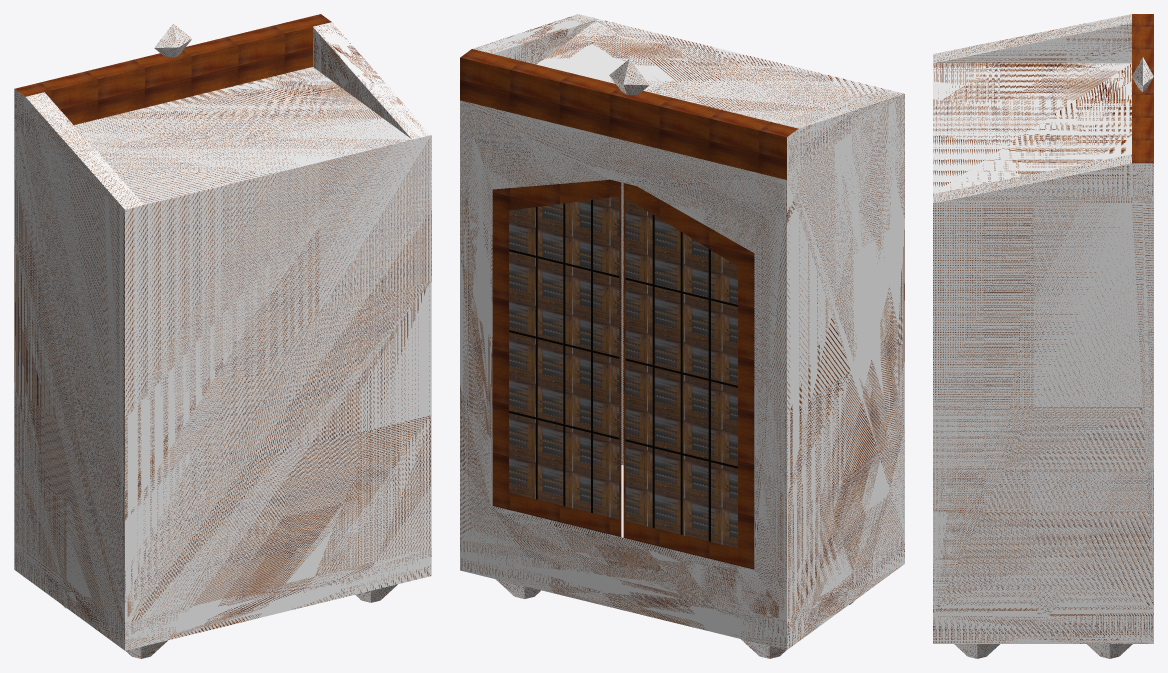
3 renders of one model, left to right at view 1: azimuth 30°, elevation 25°; view 2: azimuth 150°, elevation 25°; view 3: azimuth 270°, elevation 25°, orthographic. The views are drawn at different scales.
Visible parts, largest first — view 1: mesh3_mesh3-geometry, mesh1_mesh1-geometry; view 2: mesh3_mesh3-geometry, mesh1_mesh1-geometry; view 3: mesh3_mesh3-geometry, mesh4_mesh4-geometry, mesh5_mesh5-geometry, mesh1_mesh1-geometry.
Boxes of the visible parts, left/top/right/bottom form: mesh3_mesh3-geometry: left=14, top=14, right=431, bottom=658; mesh1_mesh1-geometry: left=154, top=23, right=191, bottom=57; mesh3_mesh3-geometry: left=460, top=14, right=904, bottom=658; mesh1_mesh1-geometry: left=609, top=59, right=649, bottom=94; mesh3_mesh3-geometry: left=933, top=14, right=1153, bottom=643; mesh4_mesh4-geometry: left=1087, top=644, right=1132, bottom=658; mesh5_mesh5-geometry: left=954, top=644, right=999, bottom=658; mesh1_mesh1-geometry: left=1132, top=57, right=1153, bottom=91.
Bounding box in the file's own units: 0.4851 × 0.8202 × 0.3032.
